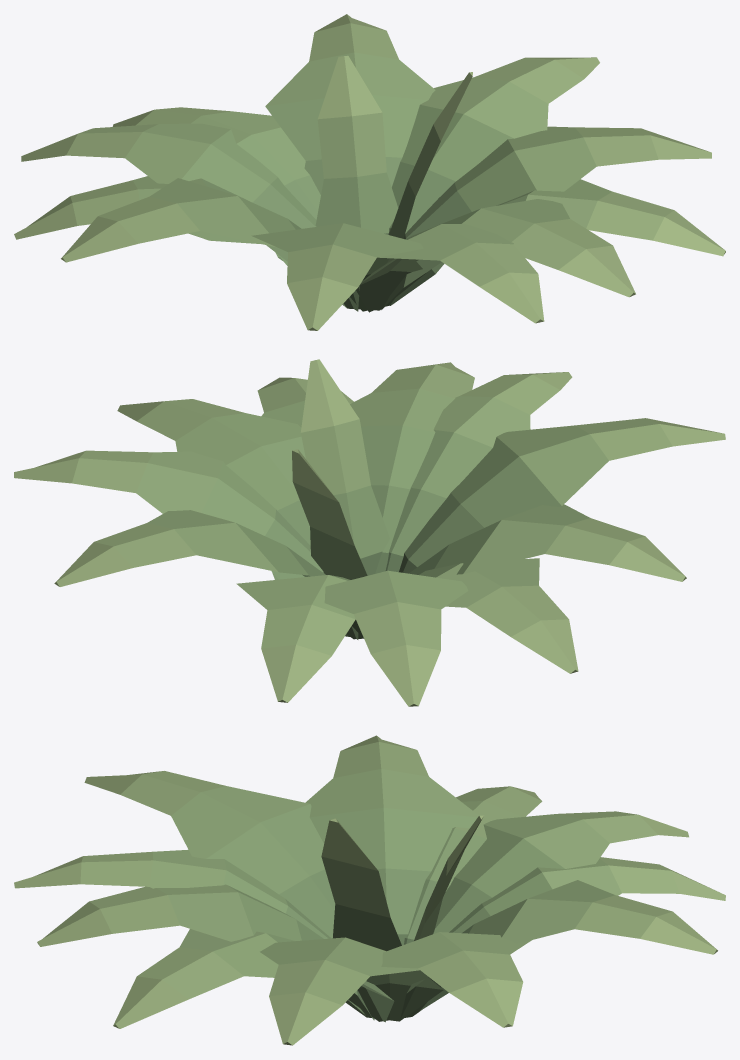
The model's file is CreekFern1_leaf.glb.
The picture shows the model from 3 angles, top to bottom: view 1: azimuth 30°, elevation 25°; view 2: azimuth 150°, elevation 25°; view 3: azimuth 270°, elevation 25°; orthographic projection.
Parts seen in each view (by area): view 1: CreekFern1_leaf; view 2: CreekFern1_leaf; view 3: CreekFern1_leaf.
Part boxes in pixels (x1,y1,x2,y2): CreekFern1_leaf: (14, 14, 725, 330); CreekFern1_leaf: (14, 359, 725, 706); CreekFern1_leaf: (14, 735, 725, 1045).
Bounding box in the file's own units: 4.08 × 1.48 × 4.15.
